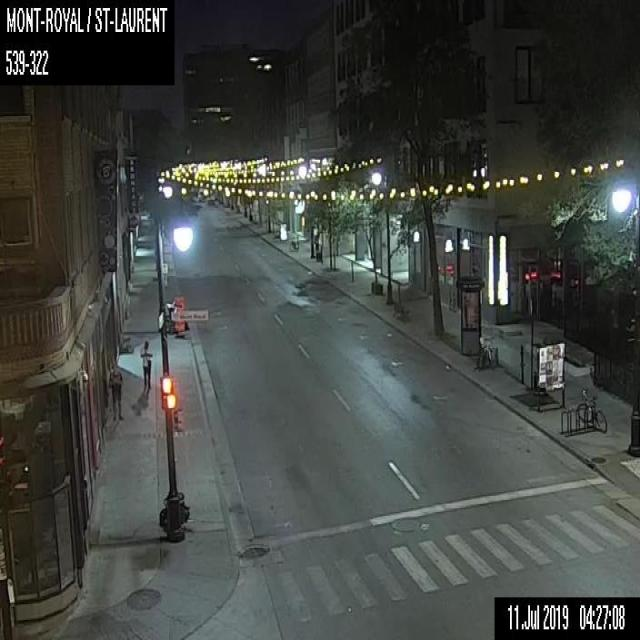construction: (174, 296, 184, 338)
pedestrian: (107, 361, 123, 420), (139, 338, 151, 391)
